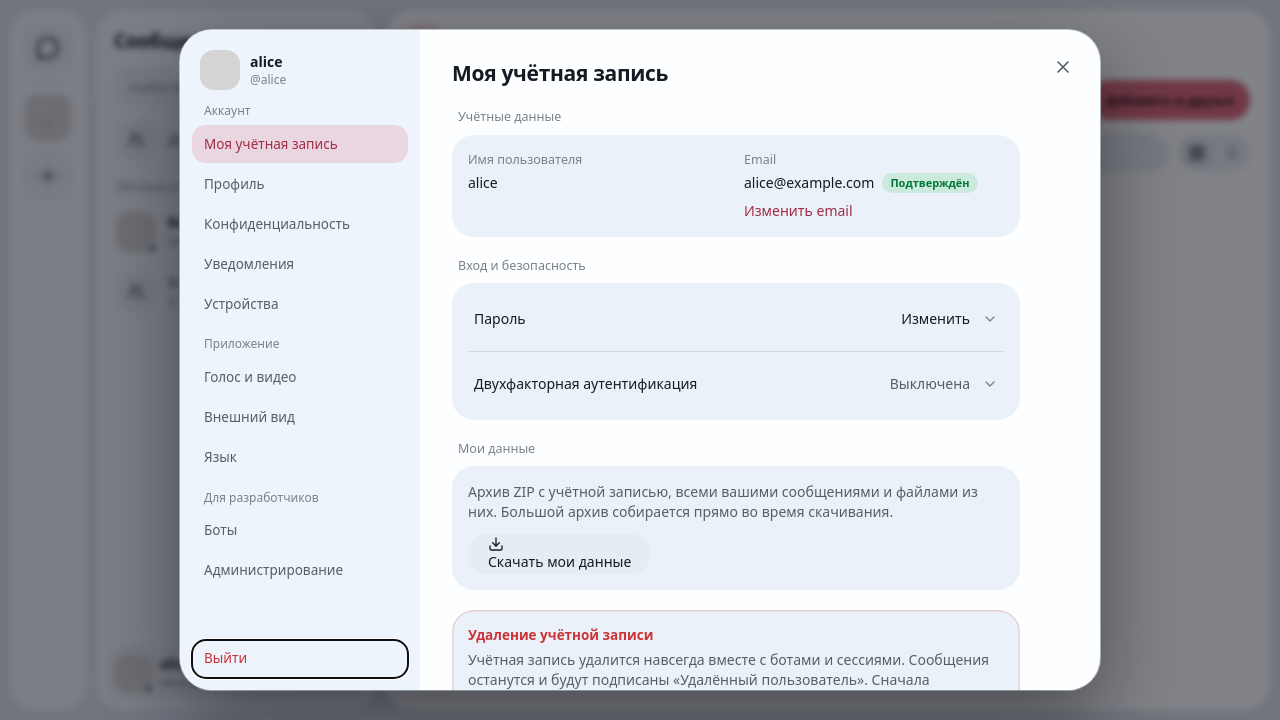
instance administration › opens from the settings and suspends a user
The image size is (1280, 720).
Click the link "Администрирование": (274, 570) [204,561,343,579]
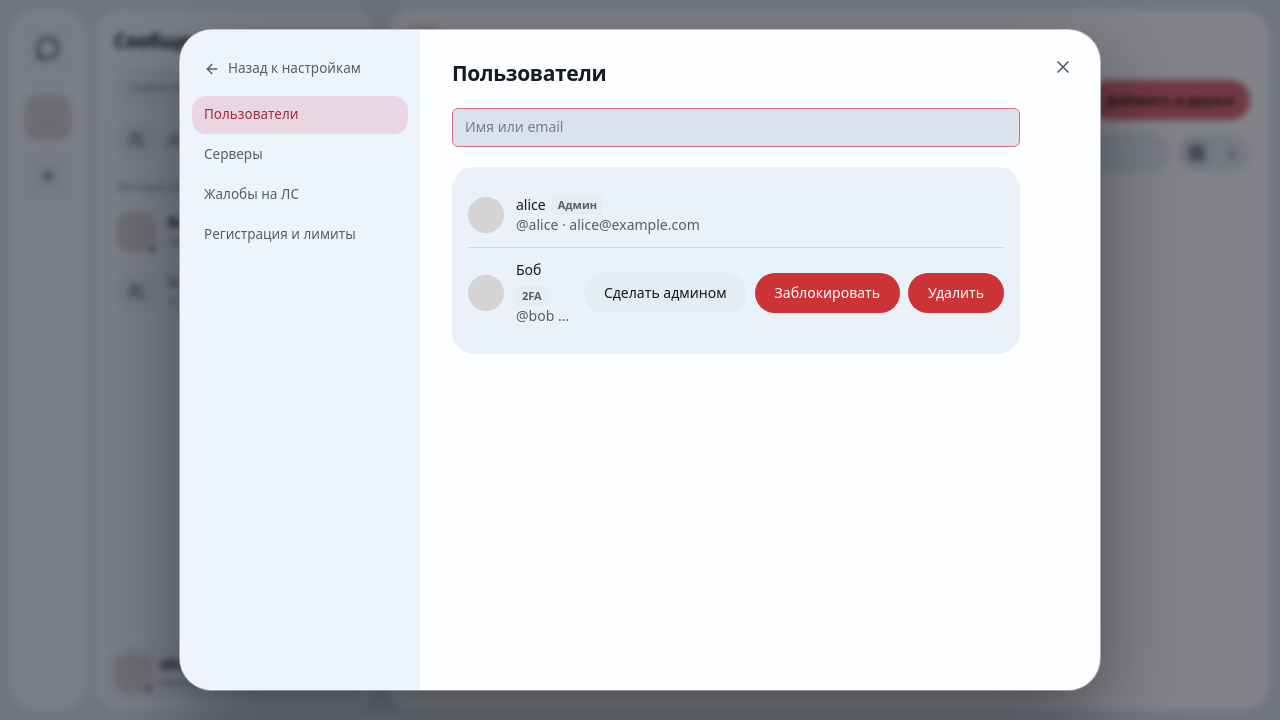
Click the button with aria-label "Заблокировать — bob": (827, 293) [755,273,900,313]
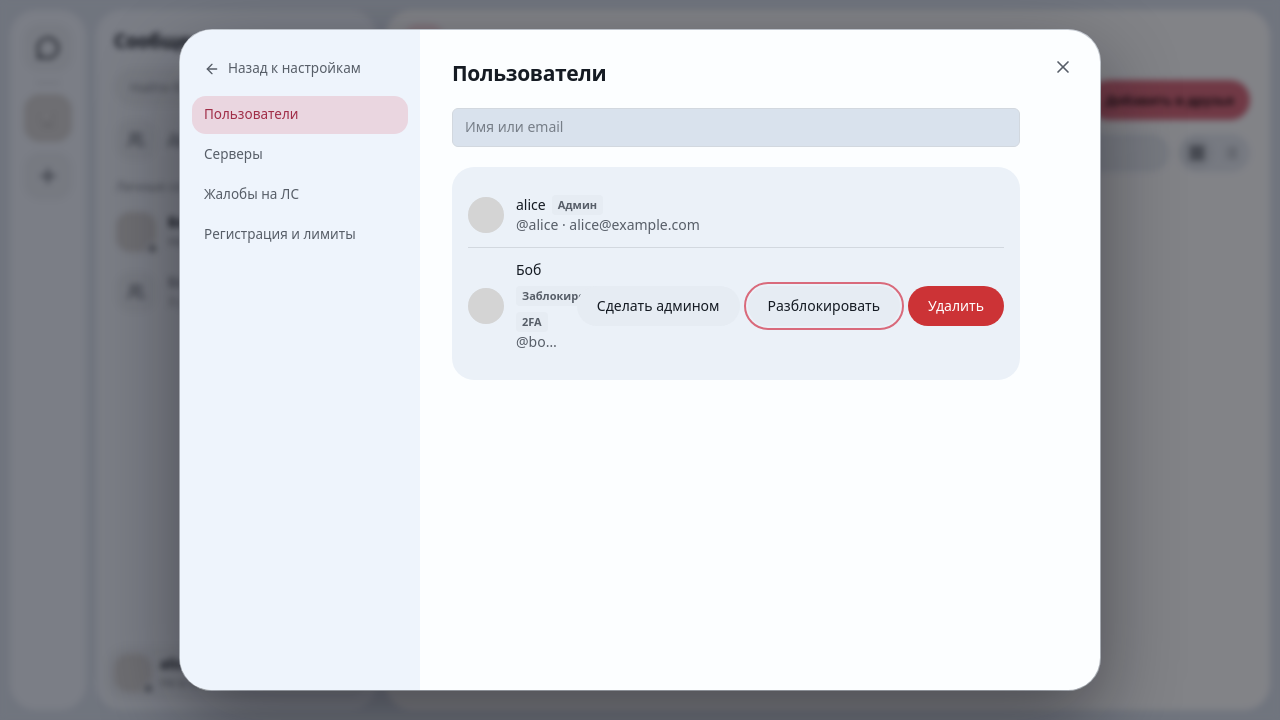
Now the button with aria-label "Разблокировать — bob" is shown, box [748,286,900,326]
